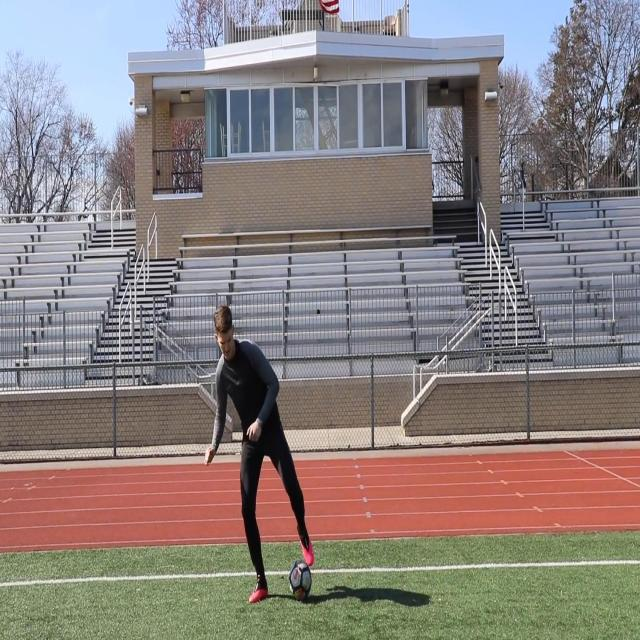Soccer Ball: (288, 556, 312, 604)
